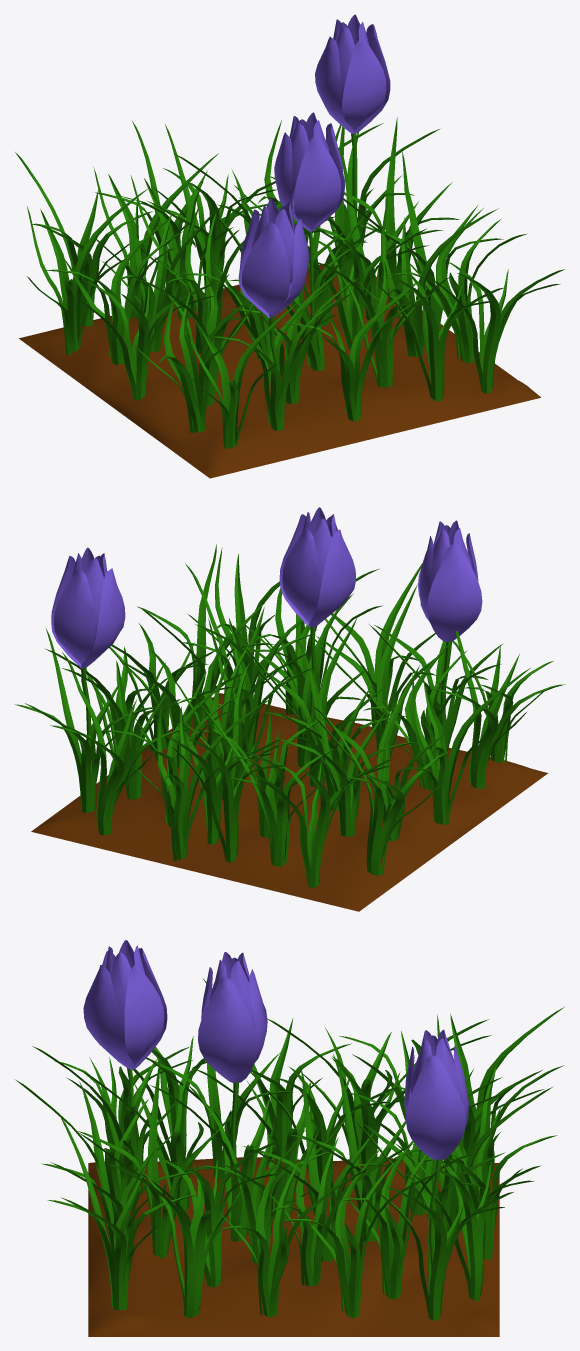
Rendered from purple-tulip-p2-bloom.glb.
3 views of the same model, one above another, from view 1: azimuth 30°, elevation 25°; view 2: azimuth 150°, elevation 25°; view 3: azimuth 270°, elevation 25° (orthographic). The views are drawn at different scales.
Parts seen in each view (by area): view 1: 2_nft_bloom; view 2: 2_nft_bloom; view 3: 2_nft_bloom.
Part boxes in pixels (<box>): 2_nft_bloom: <box>15,14,564,478</box>; 2_nft_bloom: <box>14,507,565,911</box>; 2_nft_bloom: <box>15,940,564,1336</box>.
Size of the model in its own units: 0.8607 by 0.5501 by 0.9388.
